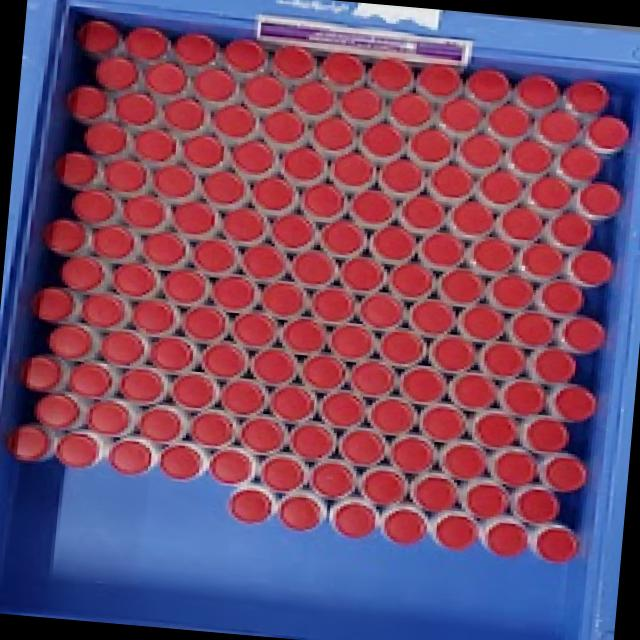vials: (277, 490, 327, 530), (538, 452, 586, 492), (359, 466, 407, 505), (489, 447, 536, 486), (260, 453, 307, 492), (481, 517, 528, 556), (470, 410, 517, 448), (7, 423, 54, 461), (308, 460, 355, 498), (530, 524, 577, 562), (528, 347, 576, 384), (368, 397, 416, 434), (208, 447, 256, 484), (419, 403, 465, 441), (548, 384, 595, 421), (399, 366, 446, 403), (520, 416, 568, 452), (301, 183, 346, 221), (239, 416, 285, 453), (512, 486, 558, 523), (408, 299, 455, 335), (449, 372, 496, 408), (269, 385, 316, 421), (434, 512, 478, 550), (430, 335, 475, 372), (55, 431, 100, 468), (499, 379, 545, 415), (220, 379, 266, 415), (319, 391, 365, 427), (289, 423, 335, 459), (440, 441, 484, 478), (412, 474, 456, 511), (280, 317, 325, 353), (563, 79, 609, 114), (379, 329, 425, 364), (149, 336, 195, 371), (339, 428, 385, 463), (300, 355, 347, 389), (33, 394, 80, 428), (391, 435, 434, 472), (438, 97, 482, 133), (568, 250, 612, 286), (350, 360, 394, 396), (228, 487, 272, 523), (514, 74, 559, 109), (457, 133, 502, 168), (250, 348, 295, 383), (83, 121, 129, 155), (561, 316, 604, 352), (478, 169, 522, 204), (132, 299, 176, 334), (232, 312, 276, 347), (480, 342, 524, 377), (69, 362, 113, 397), (138, 406, 182, 441), (535, 110, 580, 144), (458, 305, 503, 339), (261, 281, 306, 315), (439, 268, 482, 303), (359, 293, 402, 328), (311, 287, 354, 322), (82, 292, 125, 327), (171, 373, 214, 408), (464, 482, 507, 517), (332, 502, 375, 537), (223, 38, 267, 72), (420, 232, 464, 266), (163, 269, 207, 303), (182, 306, 226, 340), (190, 412, 234, 446), (368, 57, 413, 90), (378, 159, 423, 192), (578, 182, 620, 217), (450, 200, 492, 235), (321, 219, 363, 254), (44, 218, 86, 253), (109, 439, 151, 474), (159, 444, 201, 479), (243, 74, 286, 108), (331, 152, 374, 186), (232, 140, 275, 174), (104, 158, 147, 192), (471, 237, 514, 271), (122, 194, 165, 228), (489, 275, 532, 309), (540, 280, 583, 314), (120, 369, 163, 403), (487, 104, 531, 137), (212, 104, 256, 137), (360, 123, 404, 156), (408, 129, 452, 162), (351, 190, 395, 223), (498, 207, 542, 240), (33, 286, 74, 321), (203, 342, 244, 377), (88, 400, 129, 435), (390, 93, 432, 127), (400, 195, 442, 229), (292, 250, 334, 284), (61, 256, 103, 290), (384, 509, 426, 543), (126, 27, 169, 60), (585, 115, 628, 148), (95, 57, 138, 90), (508, 140, 551, 173), (430, 164, 473, 197), (182, 135, 225, 168), (143, 232, 186, 265), (329, 325, 372, 358), (49, 325, 92, 358), (320, 53, 364, 85), (291, 81, 335, 113), (71, 190, 115, 222), (22, 355, 61, 391), (313, 116, 354, 150), (510, 311, 551, 345), (101, 331, 142, 365), (272, 46, 314, 79), (194, 68, 236, 101), (55, 151, 97, 184), (372, 226, 414, 259), (271, 214, 313, 247), (114, 263, 156, 296), (175, 33, 218, 65), (282, 147, 325, 179), (153, 165, 196, 197), (340, 257, 383, 289), (417, 65, 461, 96), (465, 69, 509, 100), (67, 85, 107, 119), (77, 20, 118, 53), (115, 92, 156, 125), (550, 212, 591, 245), (223, 207, 264, 240), (213, 276, 254, 309), (145, 62, 187, 94), (163, 98, 205, 130), (529, 176, 571, 208), (202, 172, 244, 204), (252, 177, 294, 209), (520, 243, 562, 275), (262, 111, 305, 142), (194, 239, 234, 272), (243, 245, 283, 278), (559, 146, 600, 178), (136, 128, 176, 160), (341, 88, 382, 119), (174, 202, 213, 234), (94, 226, 133, 258), (390, 263, 429, 294)
